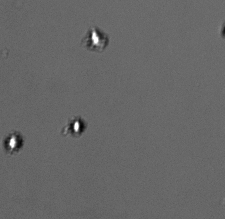Living Cell: (85, 26, 107, 51), (66, 116, 88, 137), (3, 131, 24, 153)
